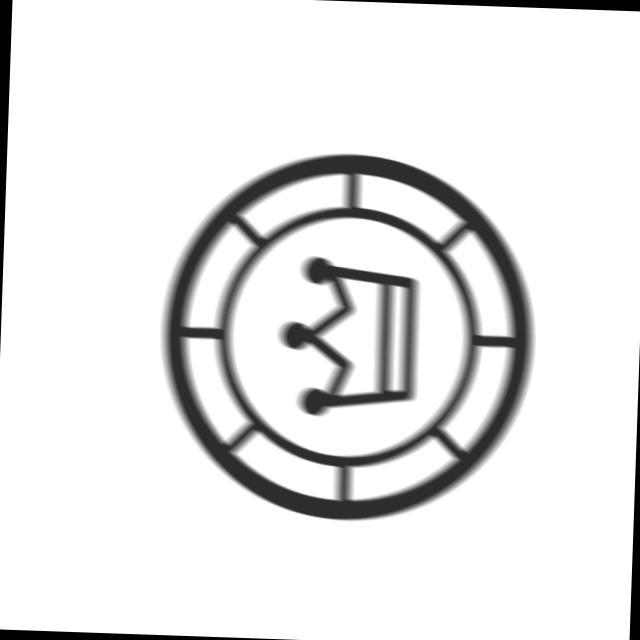coin: (145, 137, 551, 538)
